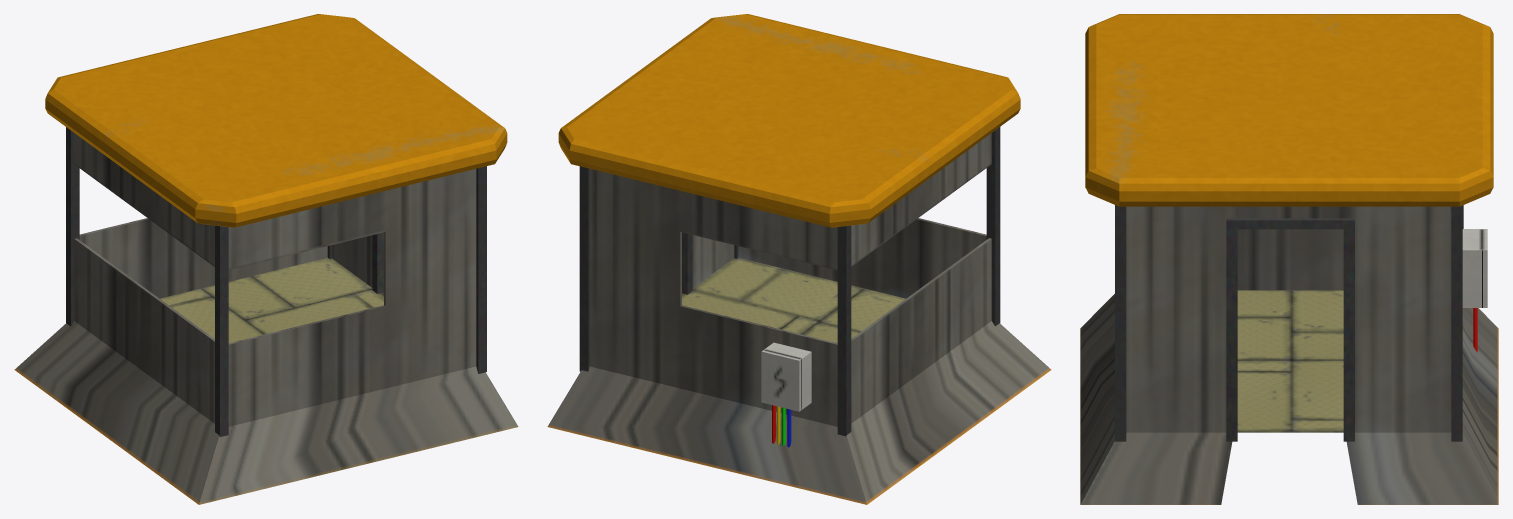
Rendered from radio_room.glb.
3 renders of one model, left to right at view 1: azimuth 30°, elevation 25°; view 2: azimuth 150°, elevation 25°; view 3: azimuth 270°, elevation 25°, orthographic. The views are drawn at different scales.
Visible parts, largest first — view 1: RadioRoom; view 2: RadioRoom, Electrical door; view 3: RadioRoom.
Part boxes in pixels (<box>): RadioRoom: <box>14,14,518,504</box>; RadioRoom: <box>547,14,1051,504</box>; Electrical door: <box>761,350,801,411</box>; RadioRoom: <box>1080,14,1498,504</box>.
Size of the model in its own units: 3.76 by 3.17 by 3.69.
Materials: 2 (2 with a texture image).
